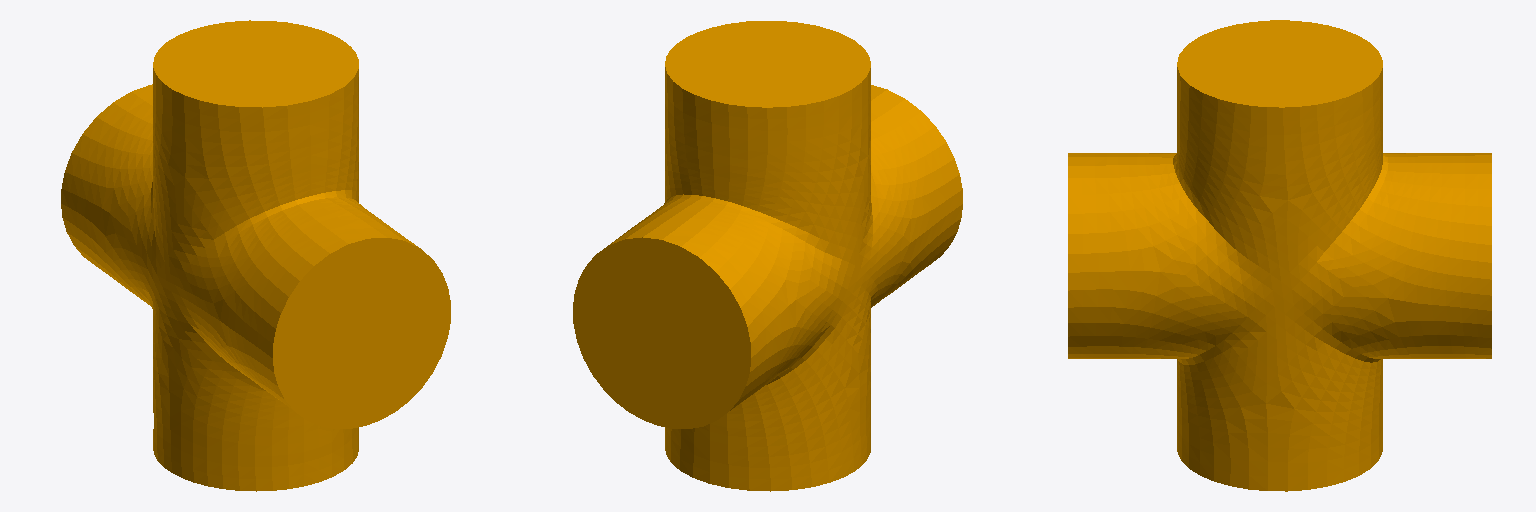
The robot description file, URDF, robot "object":
<robot name="object">
  <link name="object">
    <visual>
      <origin xyz="0 0 0"/>
      <geometry>
        <mesh filename="visual.obj" scale="1 1 1"/>
      </geometry>
    </visual>
    <collision>
      <origin xyz="0 0 0"/>
      <geometry>
        <mesh filename="visual.obj" scale="1 1 1"/>
      </geometry>
    </collision>
    <inertial>
      <mass value="0.05"/>
      <inertia ixx="5.309968201098881e-05" iyy="3.369510299941621e-05" izz="3.3702160869968236e-05" ixy="-1.846322761230385e-09" ixz="-3.895198899164671e-09" iyz="-7.576509479250776e-09"/>
    </inertial>
  </link>
</robot>

--- Render facts (derived) ---
3 views of the same robot in one strip: view 1: azimuth 30°, elevation 25°; view 2: azimuth 150°, elevation 25°; view 3: azimuth 270°, elevation 25° (orthographic).
Robot: object — 1 links, 0 joints (none); root link object; default pose: every joint at zero.
Links seen in each view (by area): view 1: object; view 2: object; view 3: object.
Link boxes in pixels (bbox=[...]): object: bbox=[61, 20, 450, 491]; object: bbox=[573, 21, 962, 491]; object: bbox=[1068, 20, 1491, 491].
Size in the robot's own frame: 0.0468 by 0.096 by 0.096 metres.
1 mesh visuals loaded from 1 distinct referenced files (1 OBJ).
